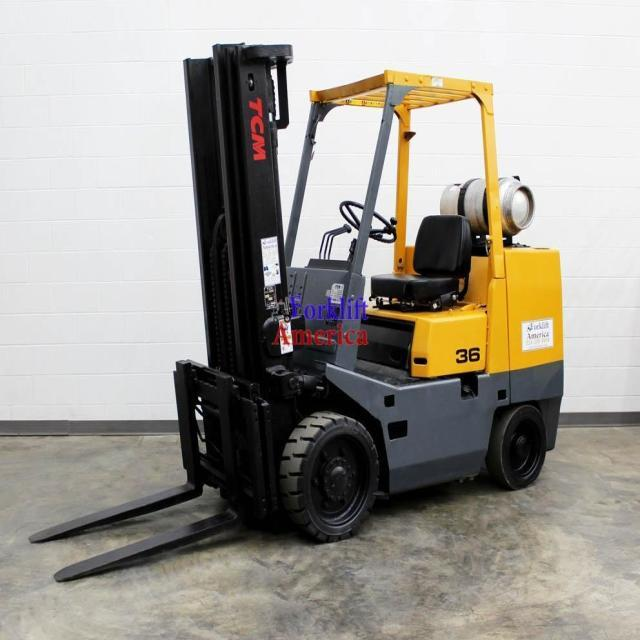forklift: (157, 22, 574, 544)
